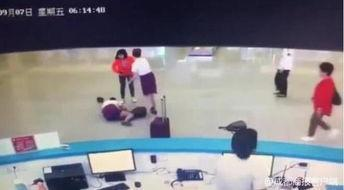Fall-Detected: (93, 90, 135, 124)
